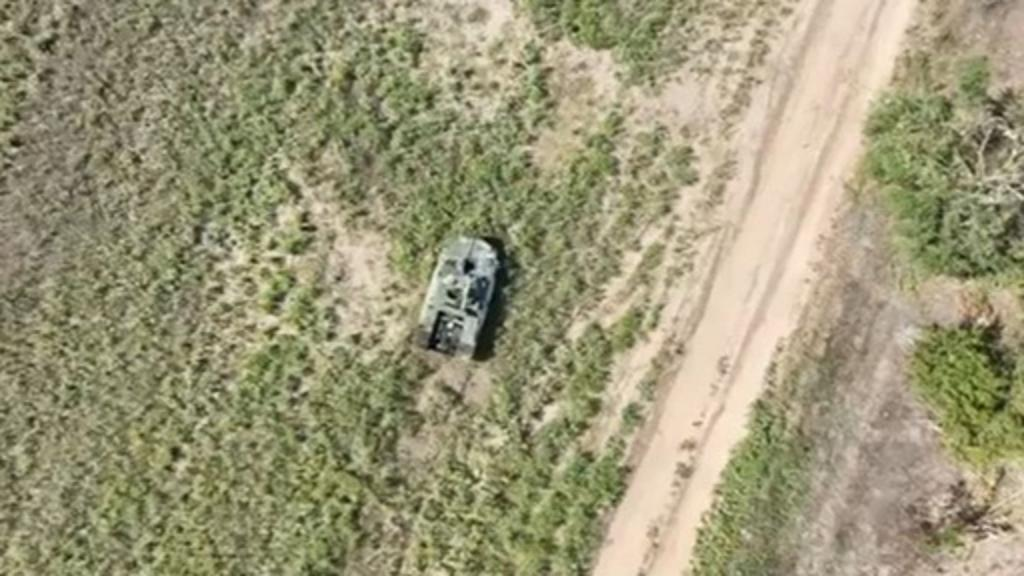APC-IFV: (412, 232, 506, 364)
